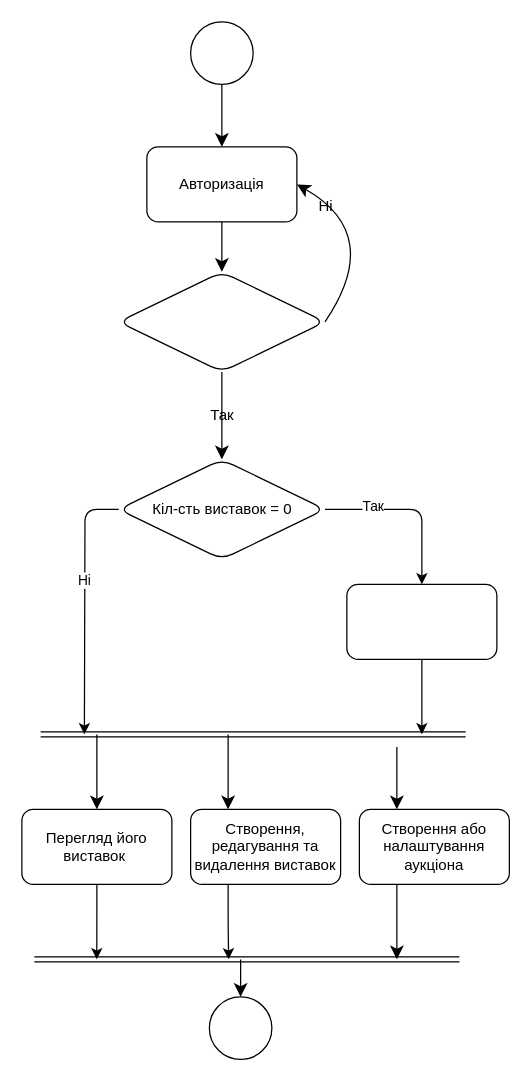
Some shapes in this 531 by 1081 pixel diagram are drawn without their labels. The shapes that lost their labels are listed below. From the top down, each one's centre as x and y in pixels, then its label:
At point (221, 321): "Успіх".
At point (421, 621): "Створення виставок".
